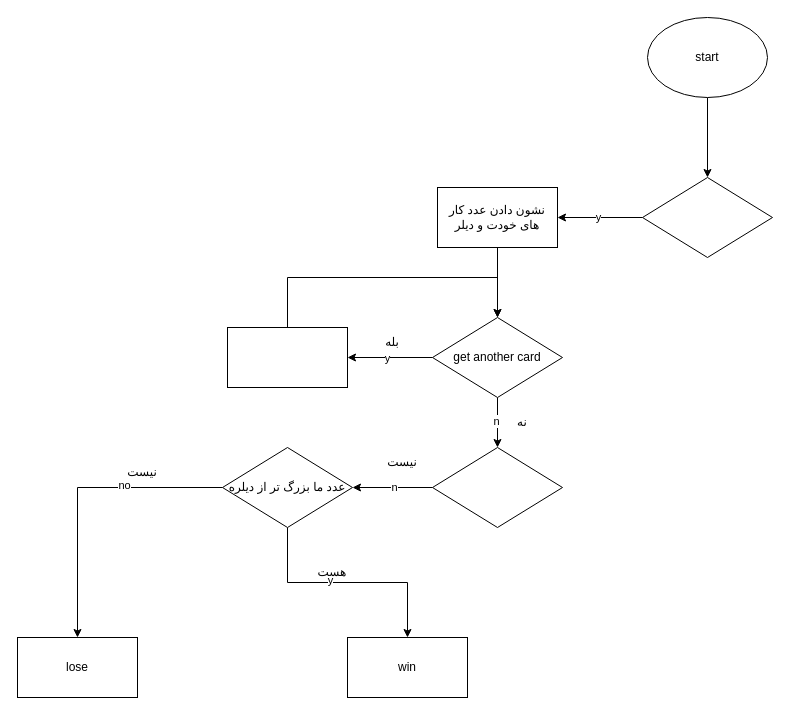
Some shapes in this 790 by 715 pixel diagram are drawn without their labels. The centre of each missing label's shape, as x and y in pixels:
Do you want to play: the point at 707,217
عدد ما بیشتر از 21؟: the point at 497,487
محاسبه عدد: the point at 287,357
